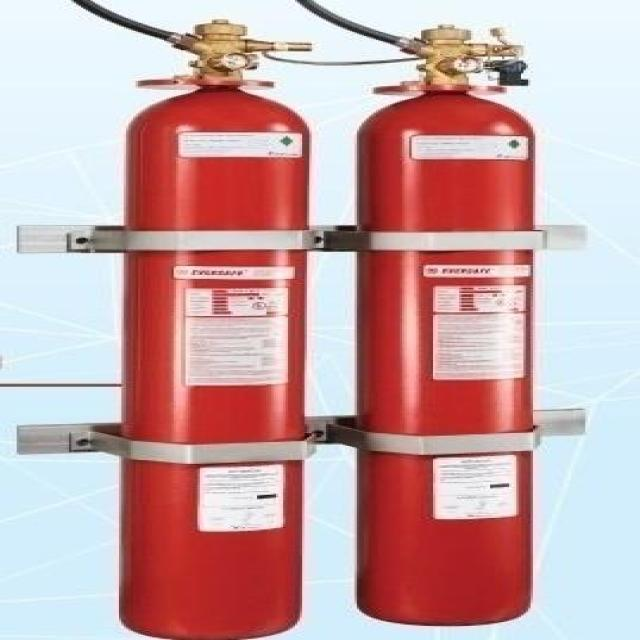fire_extinguisher: (339, 0, 558, 628), (110, 12, 312, 638)
